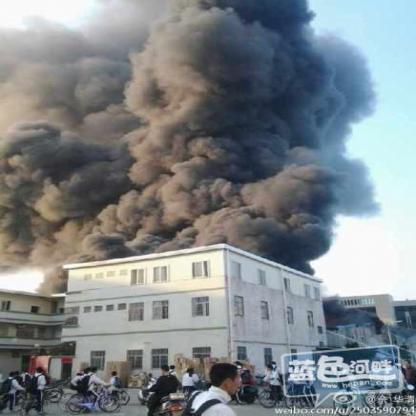smoke: (4, 113, 214, 204), (212, 107, 382, 219), (223, 0, 379, 108), (74, 5, 221, 106), (3, 205, 132, 287), (3, 11, 76, 112), (215, 222, 335, 273), (134, 206, 214, 254)
